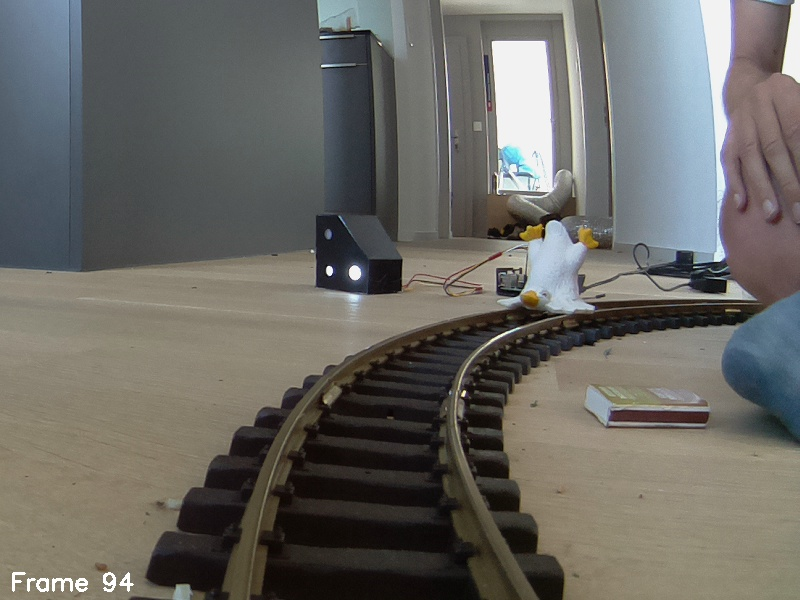Ente: (492, 216, 598, 324)
Halt: (315, 212, 402, 299)
